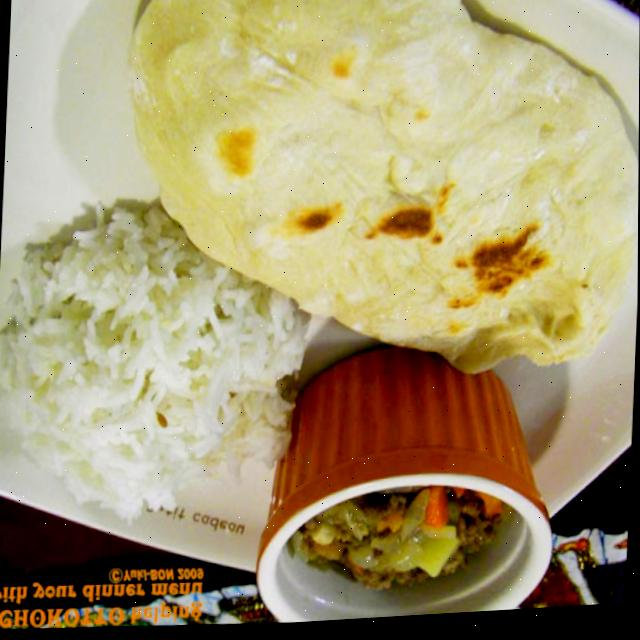牛肉菜式: (251, 342, 566, 628)
米饭主食: (0, 183, 317, 549)
